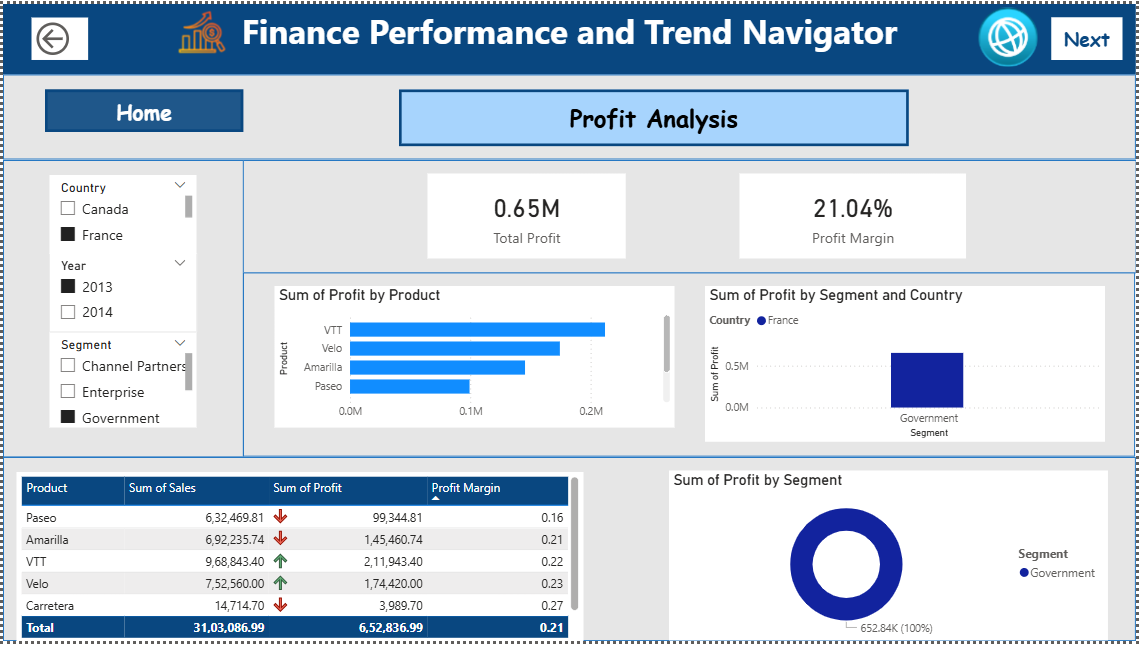

Layout of this report page (visuals, bound fields, positions):
{"tool":"powerbi","page":{"name":"Page2","canvas":[1280,720],"ordinal":11},"visuals":[{"type":"textbox","box":[0,0,1280,80],"z":0},{"type":"shape","box":[128,176,1152,128],"z":0,"group":"g6"},{"type":"slicer","fields":{"Values":["financials.Country"]},"box":[52.9,193.8,166.2,88.9],"z":0,"group":"g2"},{"type":"shape","box":[272,304,1008,208],"z":0,"group":"g3"},{"type":"shape","box":[0,512,1280,208],"z":0,"group":"g4"},{"type":"actionButton","box":[193.3,0,236.7,63.3],"z":1000},{"type":"slicer","fields":{"Values":["financials.Date.Variation.Date Hierarchy.Year"]},"box":[52.9,282.7,166.2,88.9],"z":1000,"group":"g2"},{"type":"clusteredBarChart","fields":{"Y":["Sum(financials.Profit)"],"Category":["financials.Product"]},"box":[306.8,320,451.9,160],"z":1000,"group":"g3"},{"type":"actionButton","box":[1097.9,0,148,74.8],"z":2000},{"type":"columnChart","fields":{"Category":["financials.Segment"],"Series":["financials.Country"],"Y":["Sum(financials.Profit)"]},"box":[793.4,320,451.9,176],"z":2000,"group":"g3"},{"type":"slicer","fields":{"Values":["financials.Segment"]},"box":[52.9,371.6,166.2,106.7],"z":2000,"group":"g2"},{"type":"donutChart","fields":{"Y":["Sum(financials.Profit)"],"Category":["financials.Segment"]},"box":[752,528,496,192],"z":2000,"group":"g4"},{"type":"group","id":"g1","title":"Group 1","box":[128,176,1152,128],"z":3000},{"type":"shape","box":[0,176,272,336],"z":4000},{"type":"card","fields":{"Values":["financials.Profit Margin"]},"box":[832,192,256,96],"z":4000,"group":"g6"},{"type":"group","id":"g2","title":"Group 4","box":[52.9,193.8,166.2,284.4],"z":5000},{"type":"group","id":"g3","title":"Group 3","box":[272,304,1008,208],"z":6000},{"type":"group","id":"g4","title":"Group 6","box":[0,512,1280,208],"z":7000},{"type":"group","id":"g5","title":"Group 7","box":[0,80,1280,96],"z":8000},{"type":"actionButton","box":[448,96,576,64],"z":9000},{"type":"actionButton","box":[48,96,224,48],"z":10000},{"type":"actionButton","box":[32,16,64,48],"z":11000},{"type":"card","fields":{"Values":["financials.Total Profit"]},"box":[480,192,224,96],"z":12000},{"type":"shape","box":[0,80,1280,96],"z":12002,"group":"g5"},{"type":"actionButton","box":[1184,16,80,48],"z":13000},{"type":"tableEx","fields":{"Values":["financials.Product","Sum(financials.Sales)","Sum(financials.Profit)","financials.Profit Margin"]},"box":[16,528,640,192],"z":14000},{"type":"group","id":"g6","title":"Group 2","box":[128,176,1152,128],"z":18007,"group":"g1"}]}

Visuals, with their boxes in screenshot pixels (x1, y1, x2, y2), scaled from the page's 1280x720 canvas onto the 1140x646 screenshot:
textbox: 0:0:1139:72
shape: 114:158:1139:273
slicer - financials.Country: 47:174:195:254
shape: 242:273:1139:459
shape: 0:459:1139:645
actionButton: 172:0:383:57
slicer - financials.Date.Variation.Date Hierarchy.Year: 47:254:195:333
clusteredBarChart - Sum(financials.Profit) x financials.Product: 273:287:676:431
actionButton: 978:0:1110:67
columnChart - financials.Segment x financials.Country: 707:287:1109:445
slicer - financials.Segment: 47:333:195:429
donutChart - Sum(financials.Profit) x financials.Segment: 670:474:1112:645
"Group 1" group: 114:158:1139:273
shape: 0:158:242:459
card - financials.Profit Margin: 741:172:969:258
"Group 4" group: 47:174:195:429
"Group 3" group: 242:273:1139:459
"Group 6" group: 0:459:1139:645
"Group 7" group: 0:72:1139:158
actionButton: 399:86:912:144
actionButton: 43:86:242:129
actionButton: 28:14:86:57
card - financials.Total Profit: 428:172:627:258
shape: 0:72:1139:158
actionButton: 1054:14:1126:57
tableEx - financials.Product x Sum(financials.Sales): 14:474:584:645
"Group 2" group: 114:158:1139:273
